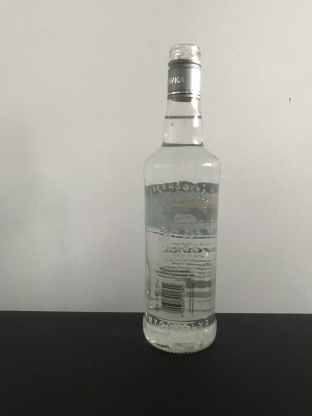nakretka: (165, 41, 203, 104)
